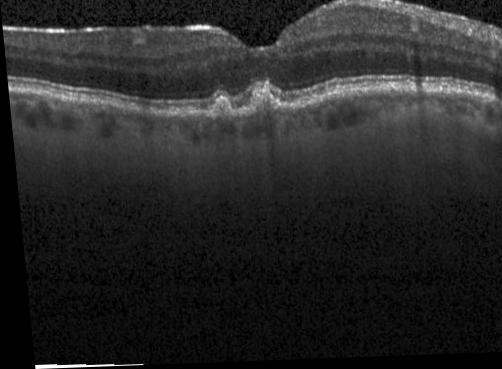lamellar_macular_rupture: (227, 28, 289, 50)
retinal_drusen: (248, 92, 273, 116), (213, 100, 227, 116)
